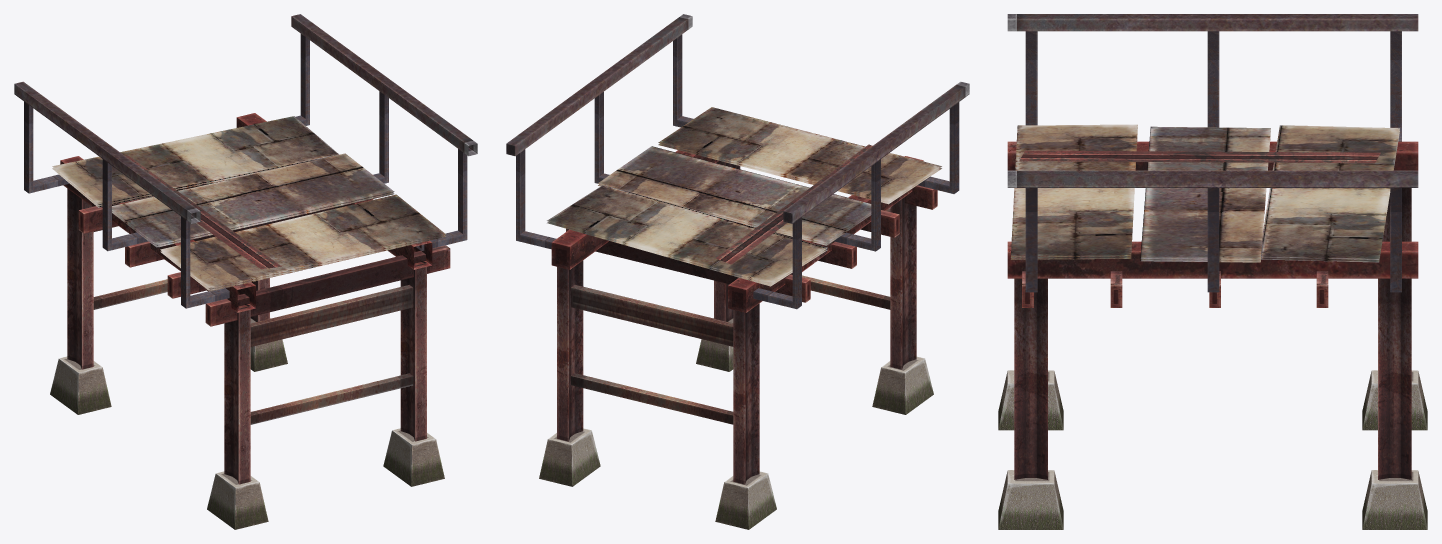
Rendered from metal_bridge_end_01.fbx.
3 renders of one model, left to right at view 1: azimuth 30°, elevation 25°; view 2: azimuth 150°, elevation 25°; view 3: azimuth 270°, elevation 25°, orthographic. The views are drawn at different scales.
Parts seen in each view (by area): view 1: metal_bridge_end_01; view 2: metal_bridge_end_01; view 3: metal_bridge_end_01.
Boxes of the visible parts, x1,y1,x2,y2 form: metal_bridge_end_01: (14,14,477,529); metal_bridge_end_01: (506,14,969,529); metal_bridge_end_01: (998,14,1427,529).
Size of the model in its own units: 2.99 by 3.23 by 3.35.
